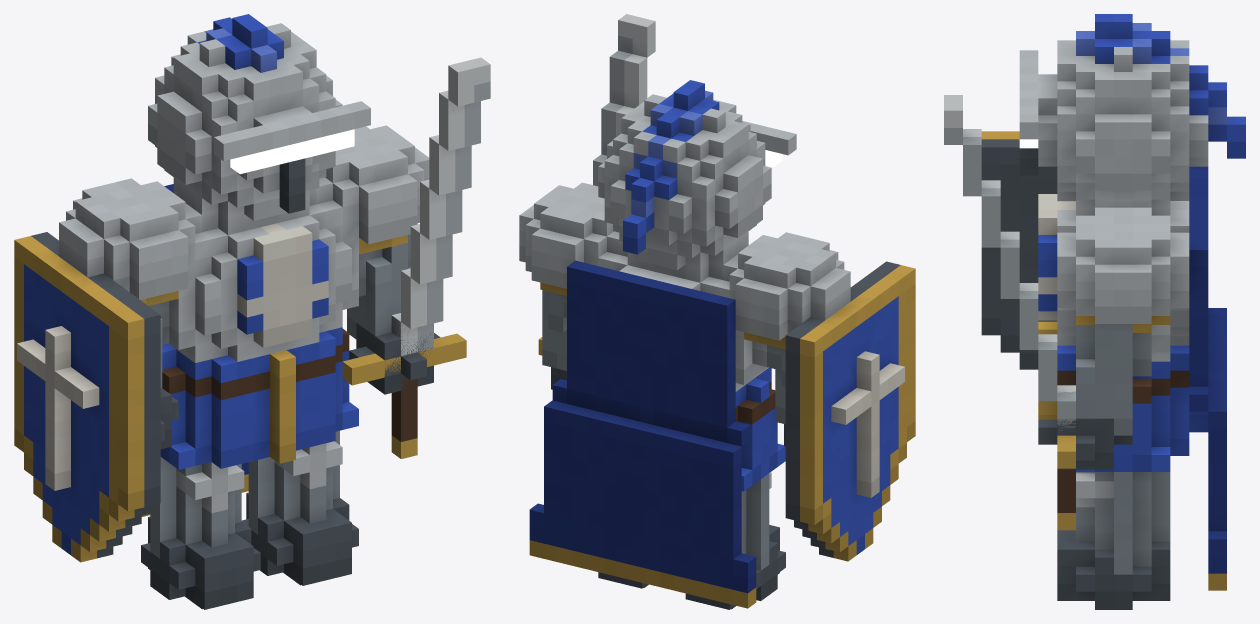
File: u_garde.glb
3 renders of one model, left to right at view 1: azimuth 30°, elevation 25°; view 2: azimuth 150°, elevation 25°; view 3: azimuth 270°, elevation 25°, orthographic. The views are drawn at different scales.
Visible parts, largest first — view 1: garde_body, garde_weapon, garde_glow; view 2: garde_body, garde_weapon; view 3: garde_body, garde_weapon.
Boxes of the visible parts, x1,y1,x2,y2 form: garde_body: [14, 14, 440, 609]; garde_weapon: [342, 57, 490, 458]; garde_glow: [230, 129, 354, 174]; garde_body: [519, 80, 915, 609]; garde_weapon: [538, 14, 655, 355]; garde_body: [981, 14, 1245, 609]; garde_weapon: [944, 95, 1075, 530].
Bounding box in the file's own units: 1.2 × 1.65 × 0.8.
